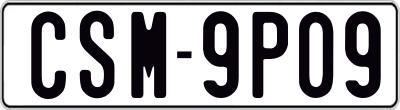0: (299, 12, 333, 98)
9: (200, 11, 240, 101), (344, 8, 381, 95)
C: (30, 9, 66, 99)
M: (130, 9, 166, 101)
P: (252, 11, 294, 100)
S: (79, 11, 116, 102)
